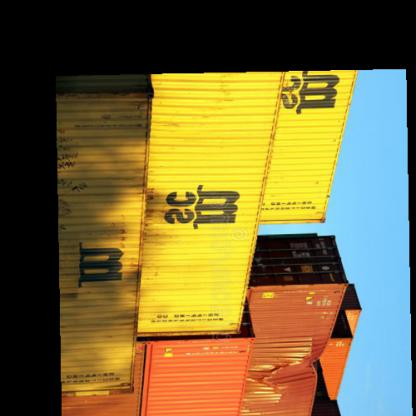Damage: (258, 342, 324, 394)
